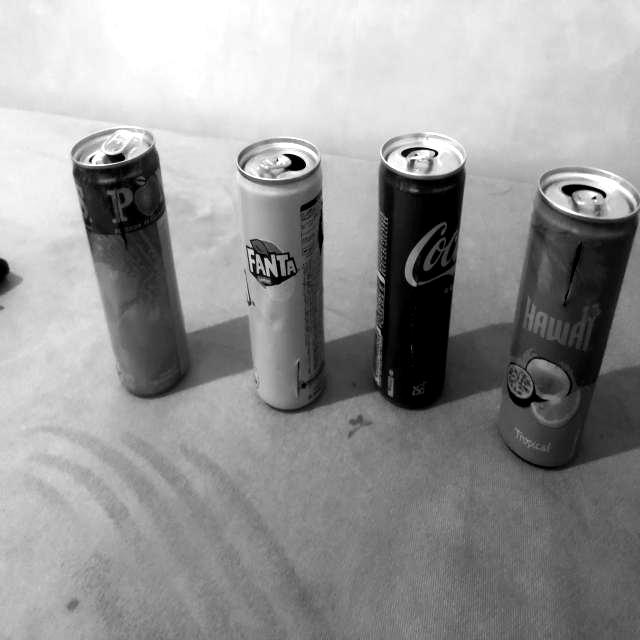cut: (401, 238, 428, 391), (552, 228, 590, 328), (104, 181, 137, 260), (292, 359, 305, 405)
metal: (499, 167, 639, 467), (72, 127, 189, 395), (373, 133, 465, 408), (236, 138, 325, 411)
